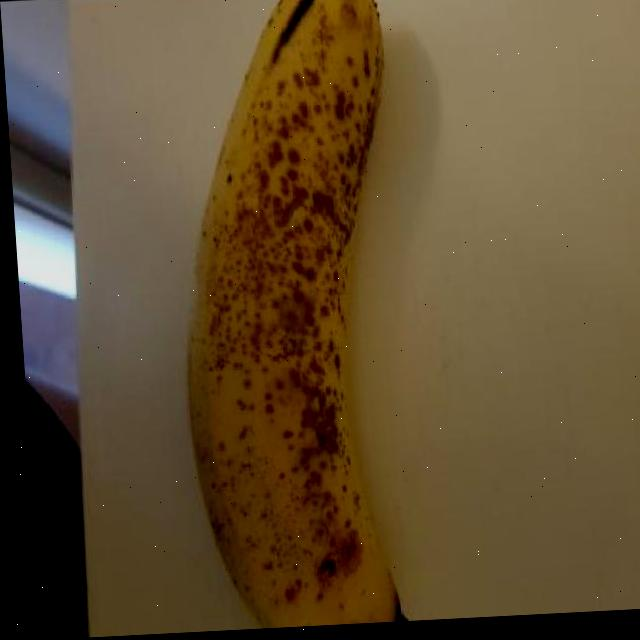banana: (156, 0, 439, 632)
